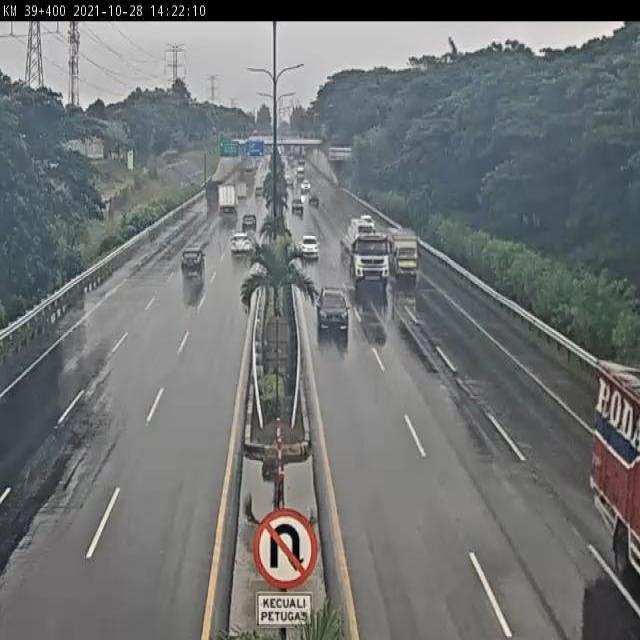ARABA: (315, 280, 349, 335), (180, 246, 206, 282), (297, 232, 322, 263), (227, 231, 253, 260), (239, 212, 260, 233)
KAMYONET: (385, 222, 422, 286)
TIR: (338, 212, 392, 289)
